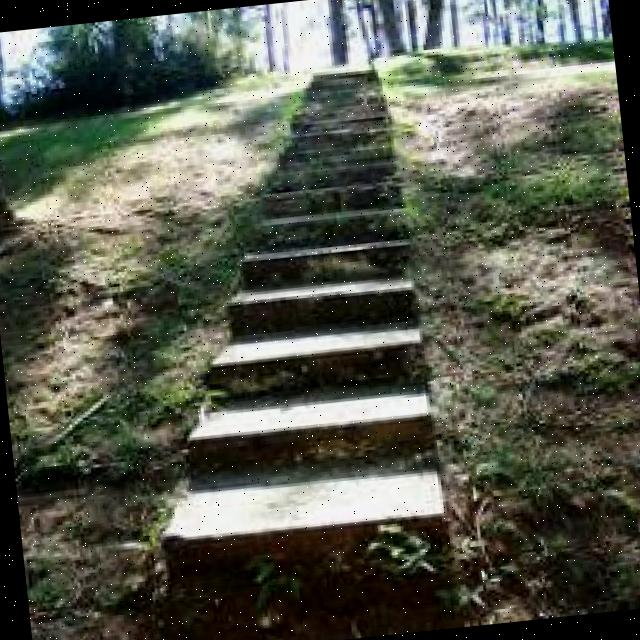stairs: (110, 58, 453, 576)
